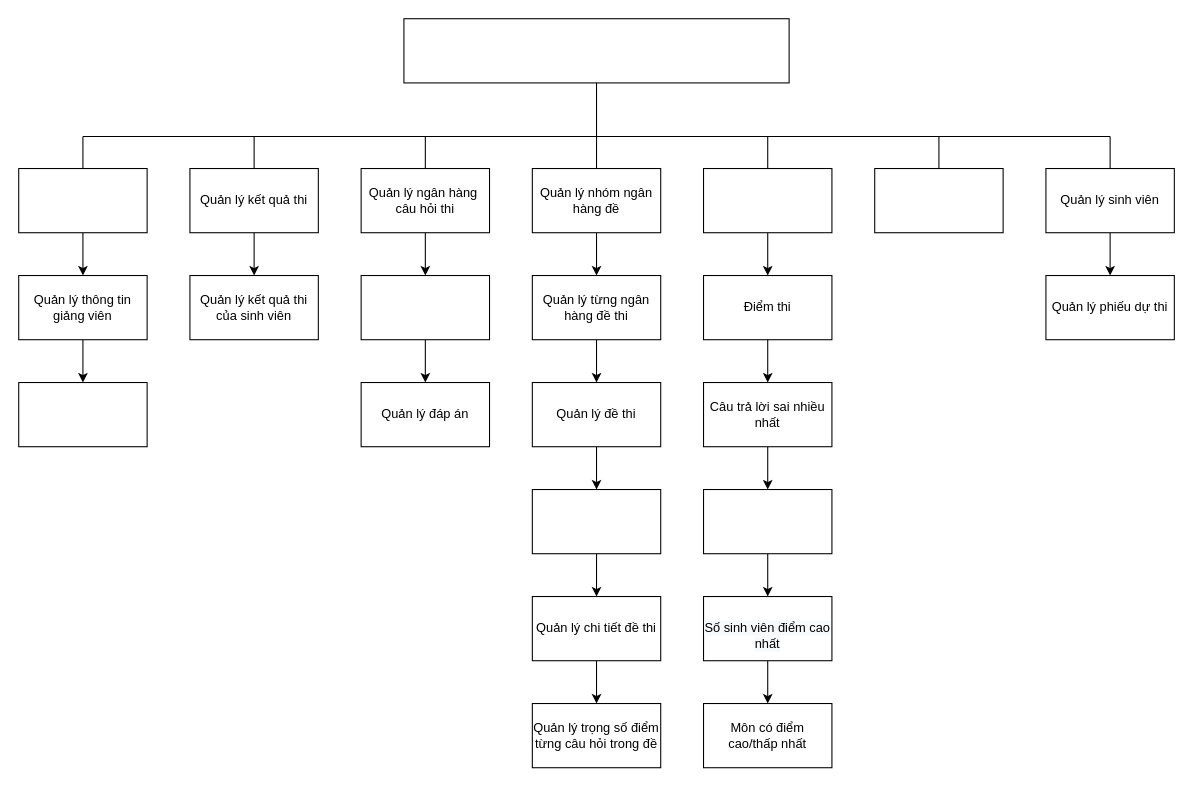
Some shapes in this 1193 by 786 pixel diagram are drawn without their labels. The centre of each missing label's shape, as x and y in pixels:
"Quyền truy cập/chỉnh sửa của giảng viên vào đề nhất định" belongs at pixel 596 521.
"Quản lý giảng viên" belongs at pixel 82 200.
"Quản lý lựa chọn" belongs at pixel 425 307.
"Quản lý môn thi" belongs at pixel 938 200.
"Quản lý quyền giảng viên" belongs at pixel 82 414.
"Quản lý thi và tổ chức thi trắc nghiệm" belongs at pixel 596 50.
"Số sinh viên điểm dưới trung bình" belongs at pixel 767 521.
"Thống kê" belongs at pixel 767 200.
